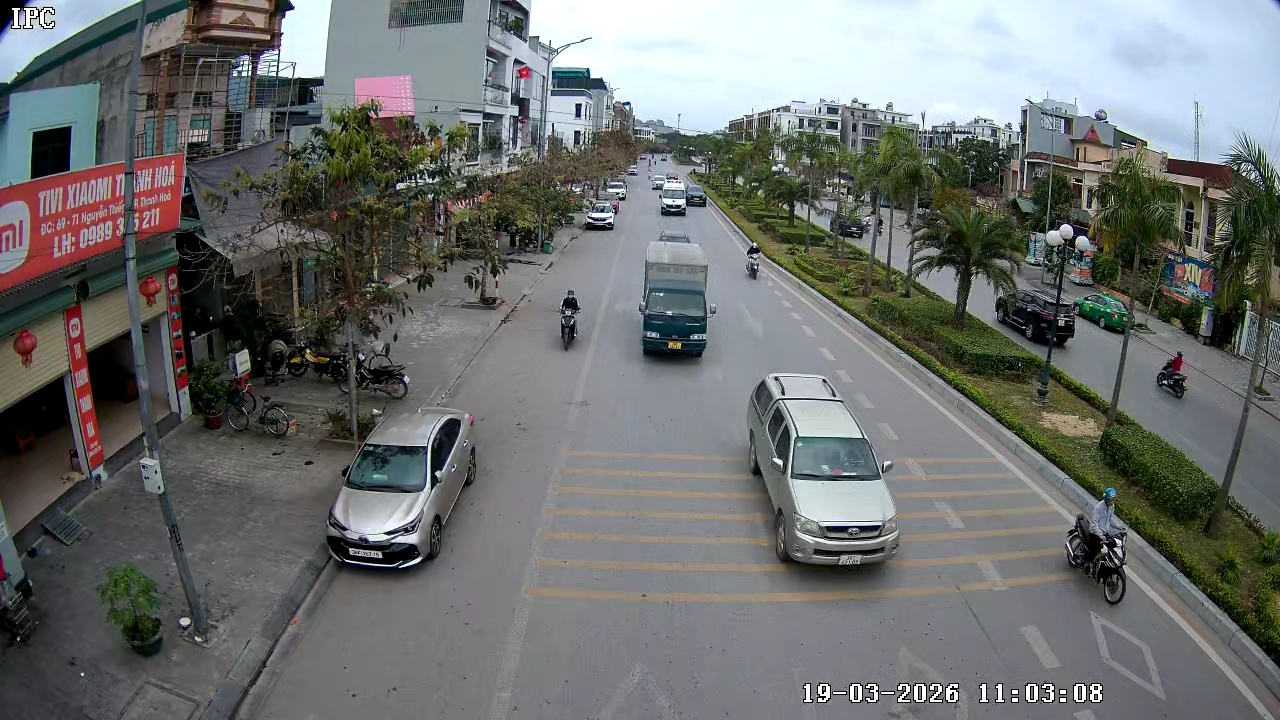car: (745, 371, 900, 565), (325, 405, 478, 570), (583, 199, 618, 231), (658, 179, 688, 216), (686, 179, 707, 209)
motorbike: (1064, 487, 1131, 606), (354, 338, 411, 399), (1155, 350, 1190, 401), (557, 289, 582, 351), (744, 241, 762, 281)
truck: (639, 229, 716, 358)
